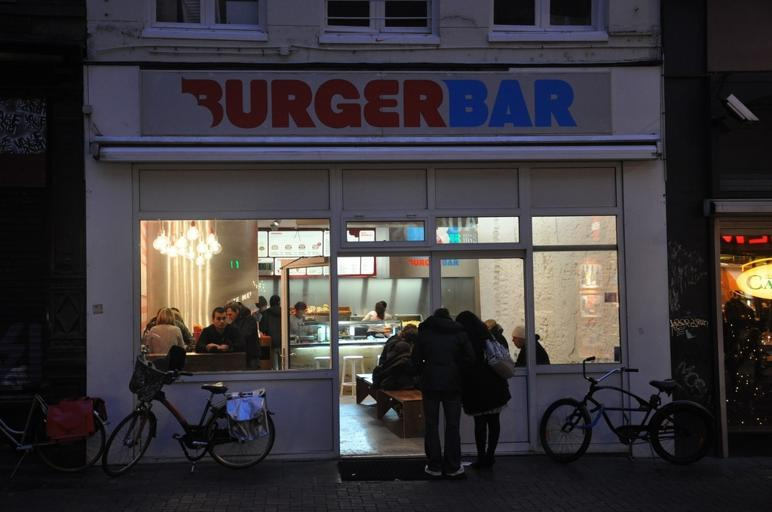non-vehicle: (101, 346, 277, 479), (537, 355, 720, 467), (0, 367, 106, 485)
